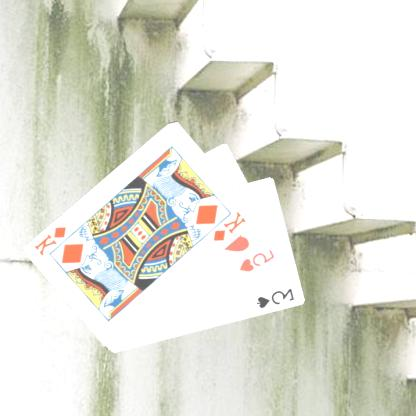3S: (256, 286, 298, 310)
5H: (239, 246, 278, 274)
KD: (212, 208, 249, 243), (33, 224, 70, 257)
